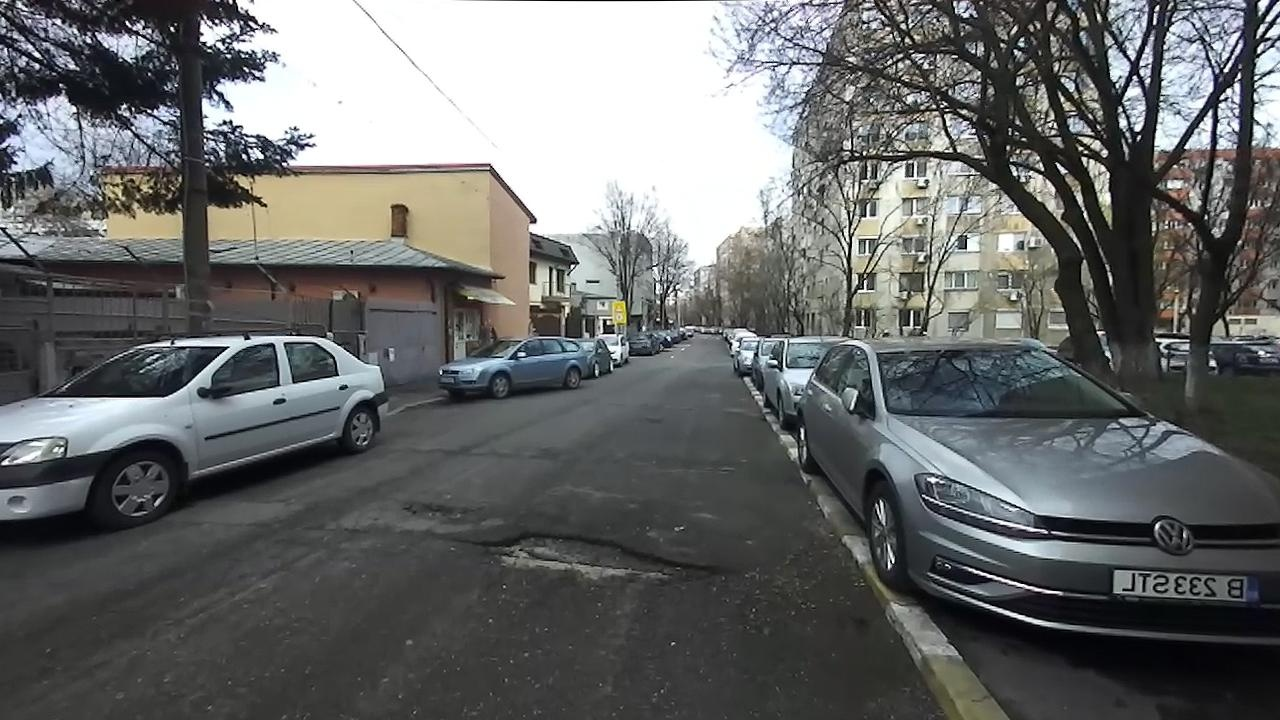pothole: (436, 526, 741, 585), (397, 492, 483, 522)
